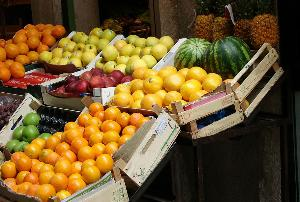apple: (42, 28, 174, 78), (0, 111, 62, 152), (56, 67, 136, 97)
orange: (0, 111, 158, 202), (106, 66, 240, 120), (0, 17, 70, 69)
watermelon: (168, 34, 276, 78)
